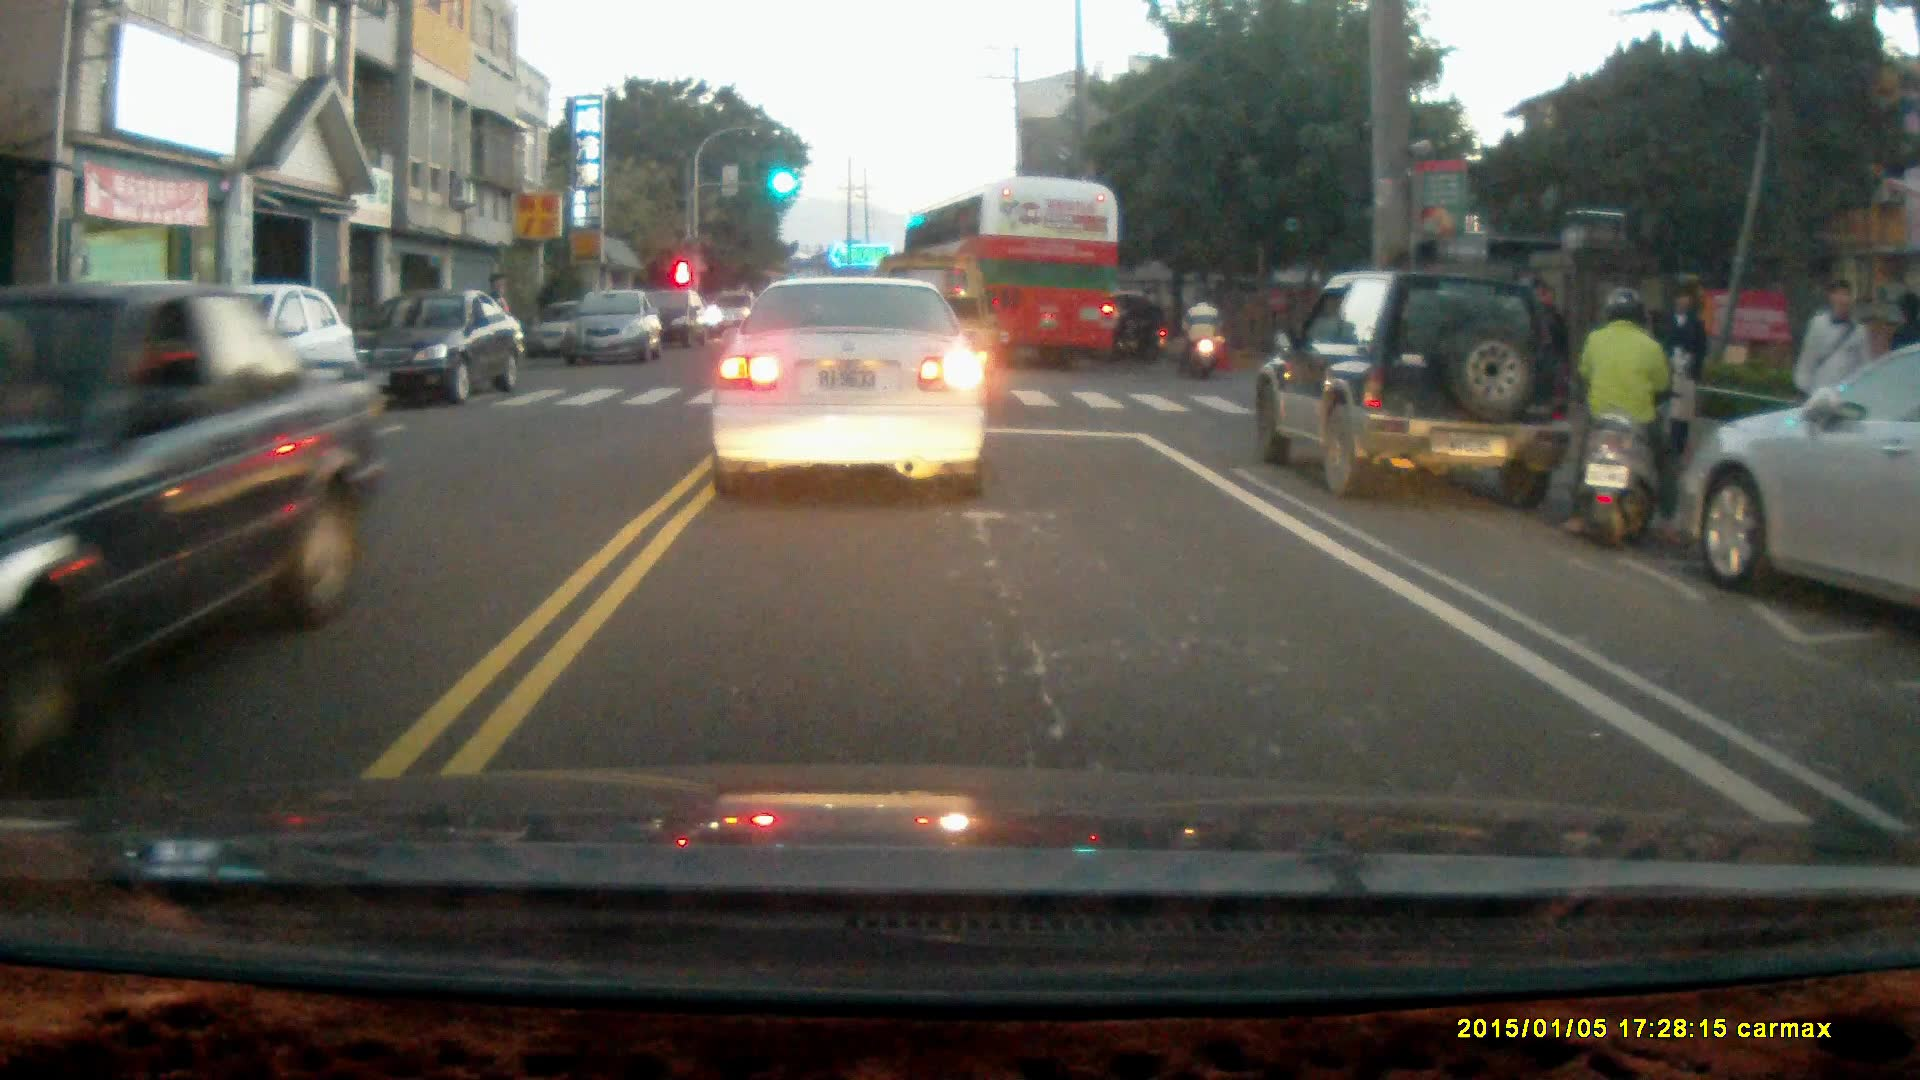pedestrian: (1798, 271, 1877, 454), (1653, 279, 1711, 464)
rider: (1560, 286, 1692, 546), (1105, 291, 1171, 366), (1179, 288, 1223, 378)
vehicle: (4, 274, 394, 789), (1252, 272, 1580, 507), (1679, 342, 1920, 617), (705, 272, 993, 503), (898, 176, 1123, 376), (349, 287, 528, 406), (564, 290, 661, 370), (631, 286, 716, 355)
